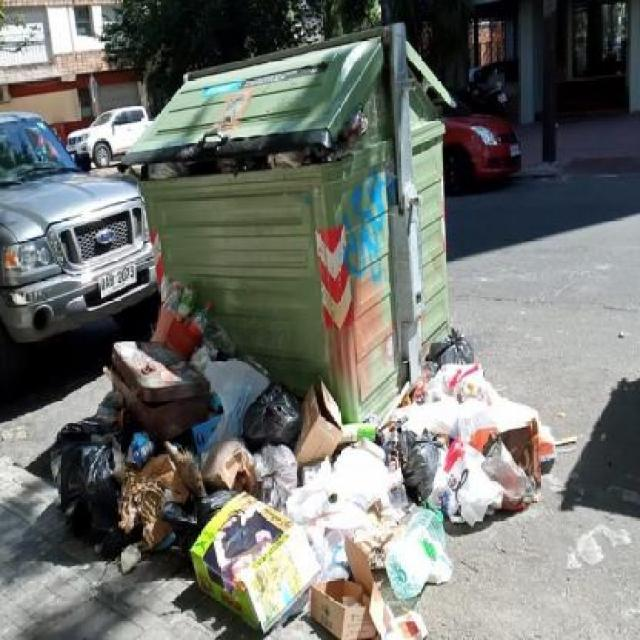garbage: (28, 339, 441, 639), (447, 334, 586, 522), (140, 131, 389, 176), (148, 277, 227, 338)
